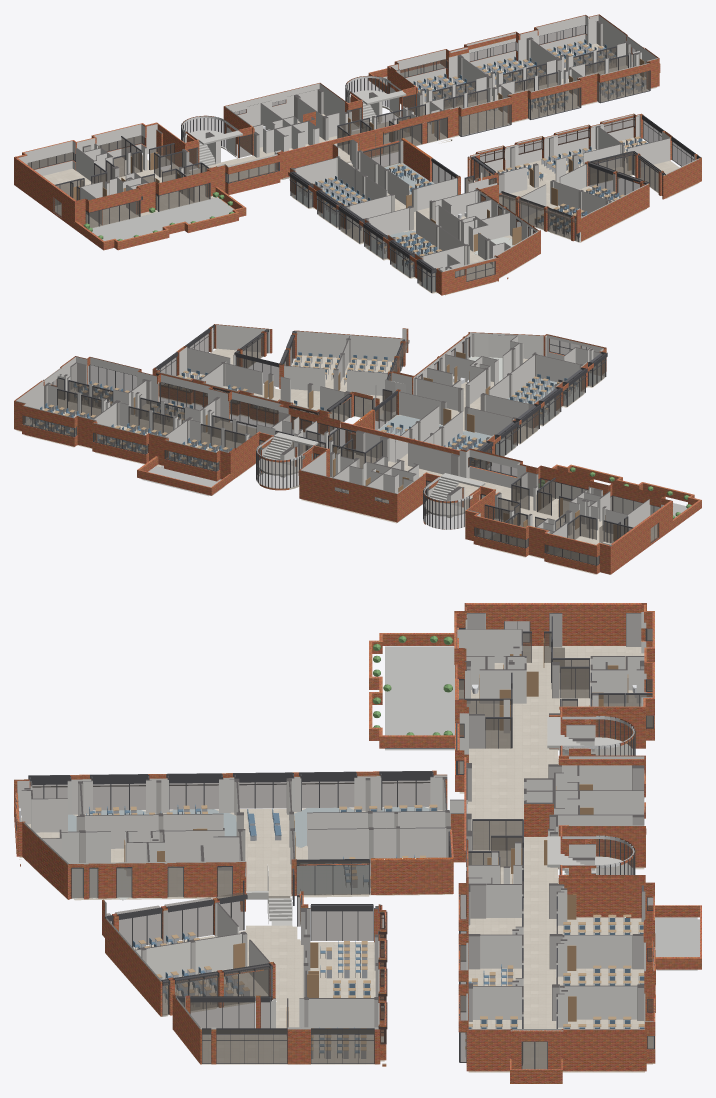
The model's file is floor-4.glb.
3 renders of one model, top to bottom at view 1: azimuth 30°, elevation 25°; view 2: azimuth 150°, elevation 25°; view 3: azimuth 270°, elevation 25°, orthographic. The views are drawn at different scales.
Visible parts, largest first — view 1: P4_Fachada_Compartida, P4_B_Walls, P4_A_Walls, P4_A_Glass, P4_A_Floor_Slab, P4_B_Glass, P4_B_Floor_Slab, P4_B_Columns, P4_A_Columns, P4_A_Glass_Mullions, P4_A_Furniture_3_3, P4_B_Glass_Mullions (+18 smaller); view 2: P4_Fachada_Compartida, P4_B_Walls, P4_A_Walls, P4_A_Glass, P4_A_Floor_Slab, P4_B_Glass, P4_B_Floor_Slab, P4_A_Columns, P4_A_Glass_Mullions, P4_B_Columns, P4_B_Floor_Zones, P4_A_Fachada_Norte_Oeste_Mamposteria (+17 smaller); view 3: P4_Fachada_Compartida, P4_A_Walls, P4_B_Walls, P4_A_Floor_Slab, P4_B_Glass, P4_B_Floor_Slab, P4_A_Columns, P4_A_Glass, P4_B_Columns, P4_B_Floor_Zones, P4_REV_Carril_Fondo_Muro, P4_A_Fachada_Oeste_Mamposteria (+19 smaller).
Boxes of the visible parts, x1,y1,x2,y2 form: P4_Fachada_Compartida: (14, 14, 701, 295); P4_B_Walls: (295, 115, 670, 291); P4_A_Walls: (76, 21, 641, 224); P4_A_Glass: (55, 48, 639, 227); P4_A_Floor_Slab: (43, 43, 656, 228); P4_B_Glass: (291, 143, 658, 292); P4_B_Floor_Slab: (292, 137, 698, 295); P4_B_Columns: (292, 125, 624, 273); P4_A_Columns: (82, 20, 630, 198); P4_A_Glass_Mullions: (59, 46, 633, 226); P4_A_Furniture_3_3: (452, 39, 624, 102); P4_B_Glass_Mullions: (290, 142, 662, 292); P4_Fachada_Compartida: (14, 324, 701, 574); P4_B_Walls: (187, 334, 600, 462); P4_A_Walls: (48, 374, 663, 553); P4_A_Glass: (57, 378, 660, 543); P4_A_Floor_Slab: (16, 387, 656, 574); P4_B_Glass: (236, 333, 605, 468); P4_B_Floor_Slab: (159, 348, 604, 468); P4_A_Columns: (44, 362, 602, 535); P4_A_Glass_Mullions: (57, 379, 654, 542); P4_B_Columns: (198, 334, 582, 462); P4_B_Floor_Zones: (354, 357, 602, 468); P4_A_Fachada_Norte_Oeste_Mamposteria: (473, 523, 596, 573); P4_Fachada_Compartida: (14, 603, 701, 1083); P4_A_Walls: (457, 613, 645, 1063); P4_B_Walls: (21, 776, 447, 1028); P4_A_Floor_Slab: (459, 646, 652, 1072); P4_B_Glass: (32, 780, 449, 1028); P4_B_Floor_Slab: (19, 807, 452, 1066); P4_A_Columns: (465, 613, 645, 1021); P4_A_Glass: (459, 633, 652, 867); P4_B_Columns: (76, 777, 450, 1027); P4_B_Floor_Zones: (68, 806, 437, 900); P4_REV_Carril_Fondo_Muro: (370, 857, 453, 894); P4_A_Fachada_Oeste_Mamposteria: (486, 615, 625, 645).
Size of the model in its own units: 79.11 by 5.99 by 52.53.
Materials: 23 (4 with a texture image).
